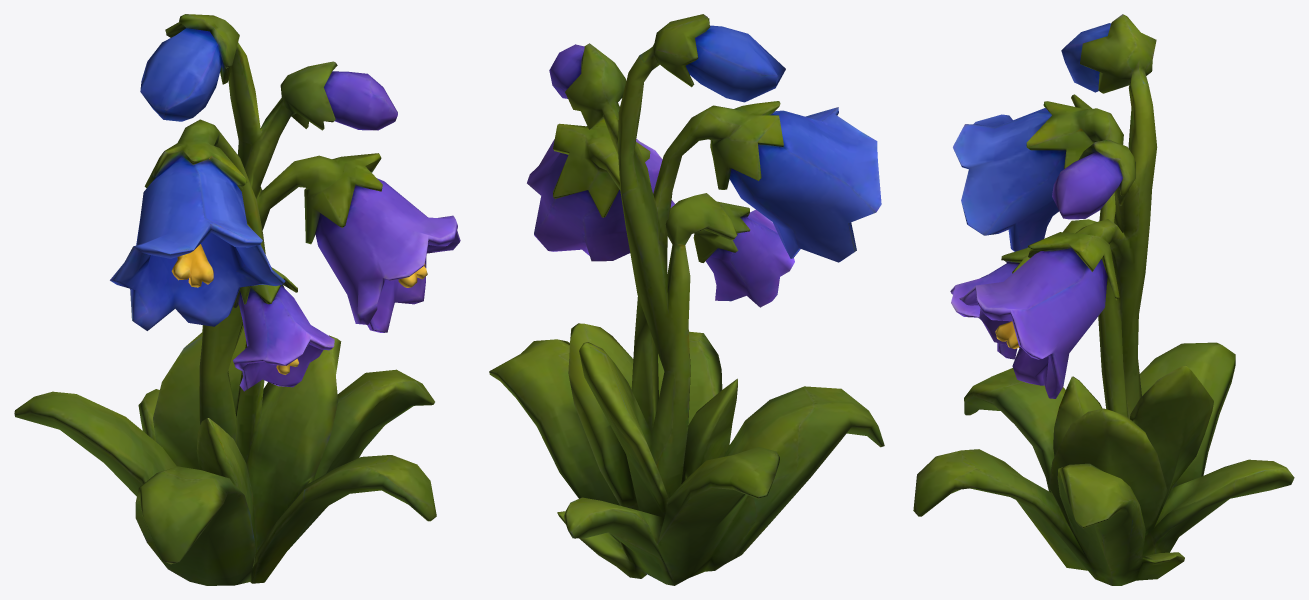
The model's file is fleurs_b.glb.
3 views of the same model, side by side, from view 1: azimuth 30°, elevation 25°; view 2: azimuth 150°, elevation 25°; view 3: azimuth 270°, elevation 25° (orthographic). The views are drawn at different scales.
Parts seen in each view (by area): view 1: geometry_0; view 2: geometry_0; view 3: geometry_0.
Part boxes in pixels (bbox=[...]): geometry_0: bbox=[14, 14, 460, 585]; geometry_0: bbox=[489, 14, 884, 585]; geometry_0: bbox=[913, 14, 1294, 585].
Size of the model in its own units: 0.628 by 0.9541 by 0.6206.
1 material, 1 textured.
